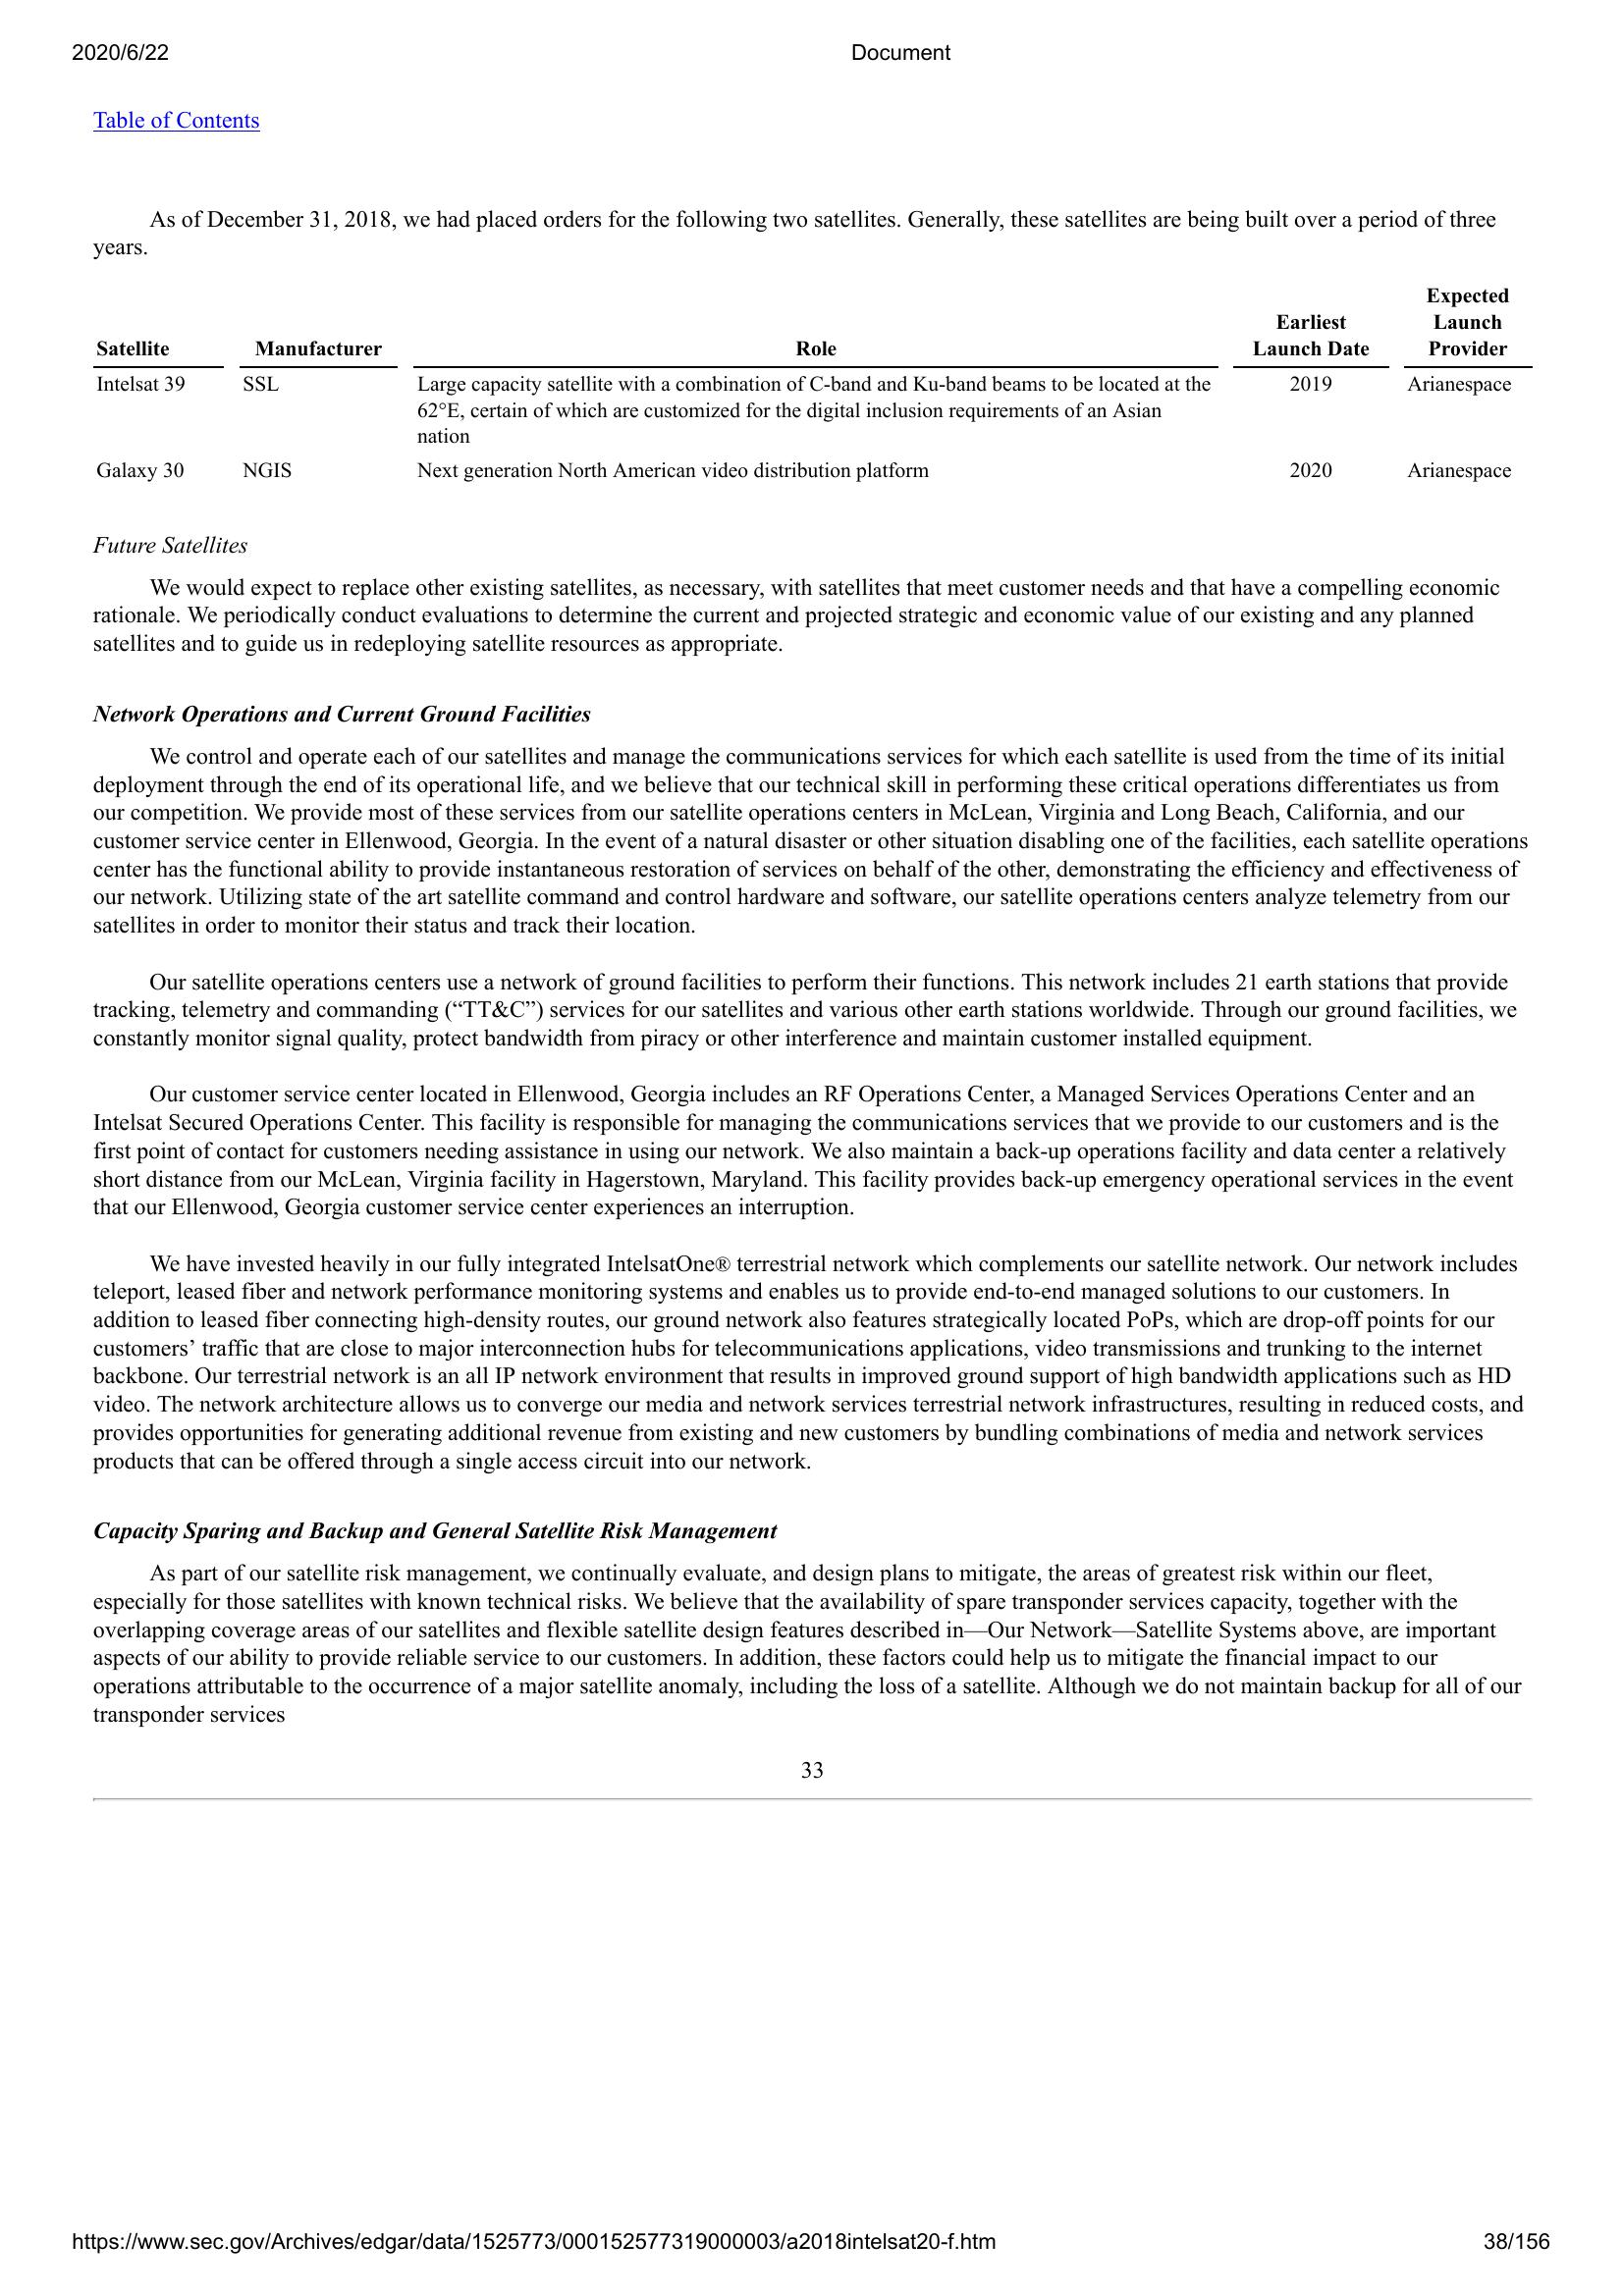table: (88, 286, 1540, 491)
